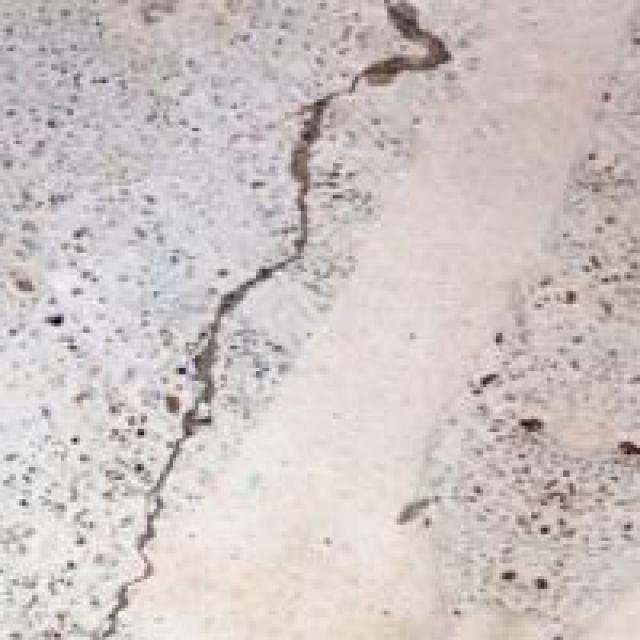Crack: (107, 0, 469, 618)
